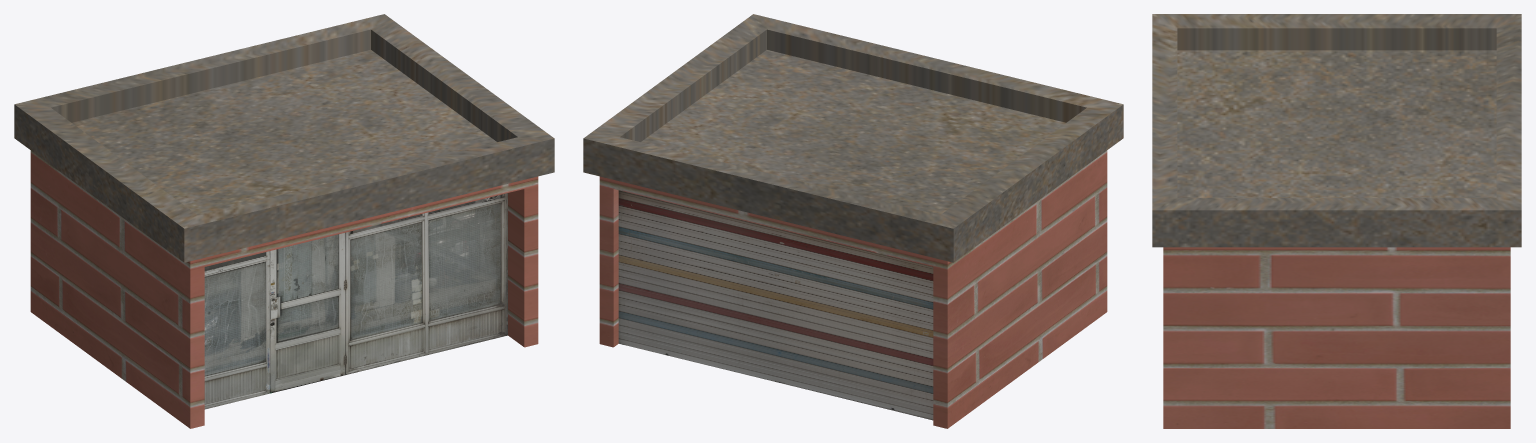
The model's file is first_building.glb.
3 views of the same model, side by side, from view 1: azimuth 30°, elevation 25°; view 2: azimuth 150°, elevation 25°; view 3: azimuth 270°, elevation 25° (orthographic). The views are drawn at different scales.
Visible parts, largest first — view 1: 큐브; view 2: 큐브; view 3: 큐브.
Boxes of the visible parts, x1,y1,x2,y2 form: 큐브: (14,14,554,428); 큐브: (583,14,1123,428); 큐브: (1152,14,1521,428).
Size of the model in its own units: 9.38 by 5.01 by 7.46.
4 materials, 4 textured.
